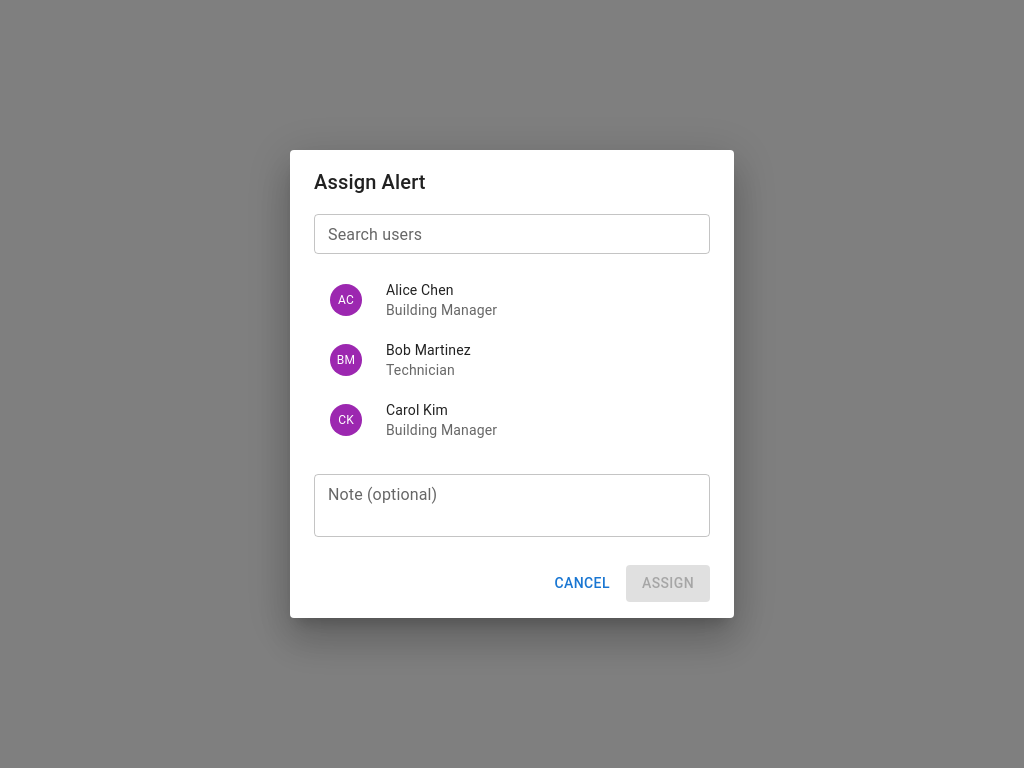
Scenario: AssignDialog › assign button is enabled after selecting a user
Click the button with aria-label "assign to Alice Chen": (414, 300) top-left (330, 282), bottom-right (497, 318)
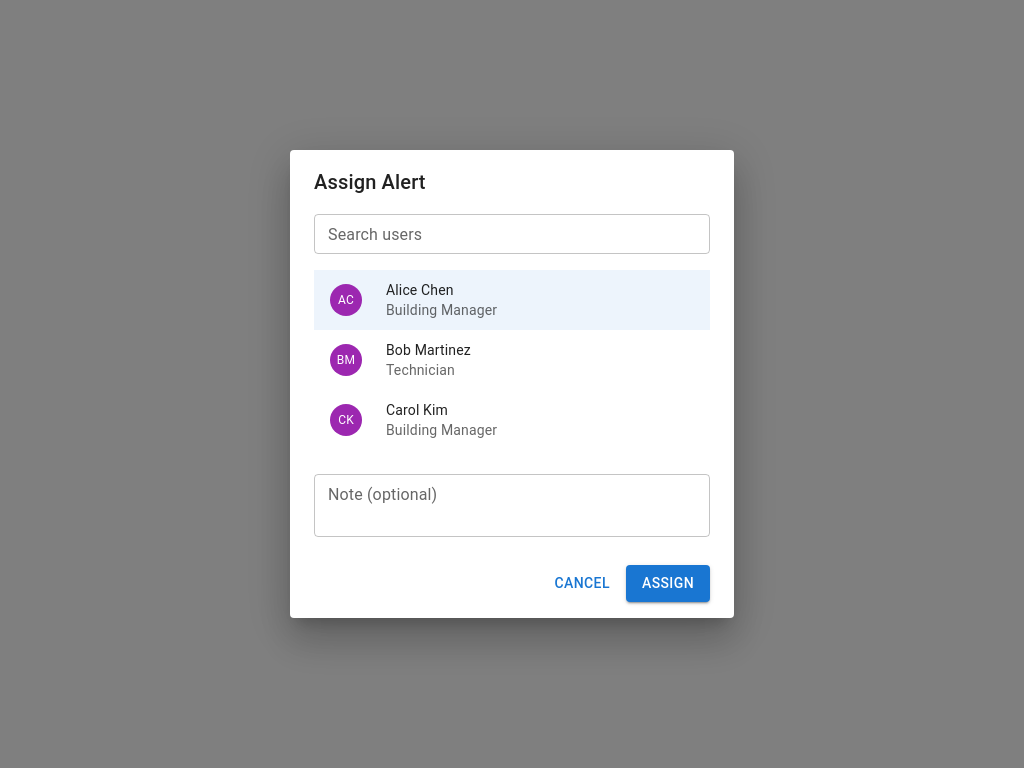
Now the button with aria-label "assign button" is enabled, box top-left (626, 565), bottom-right (710, 602)
